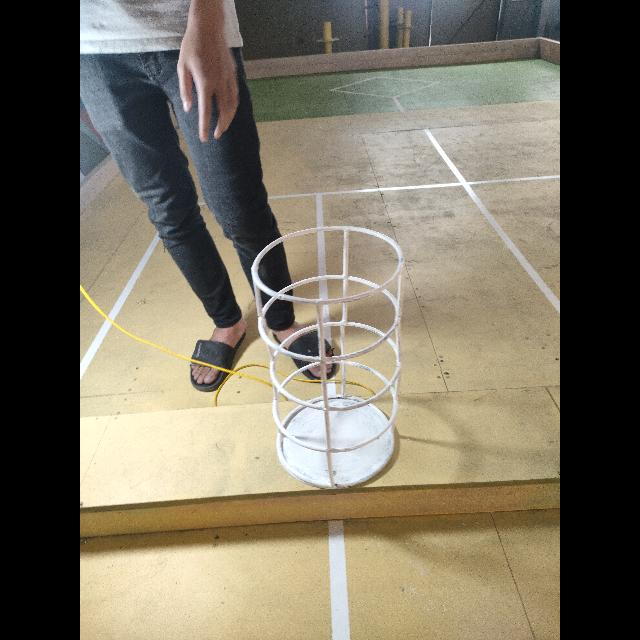S: (251, 220, 407, 491)
